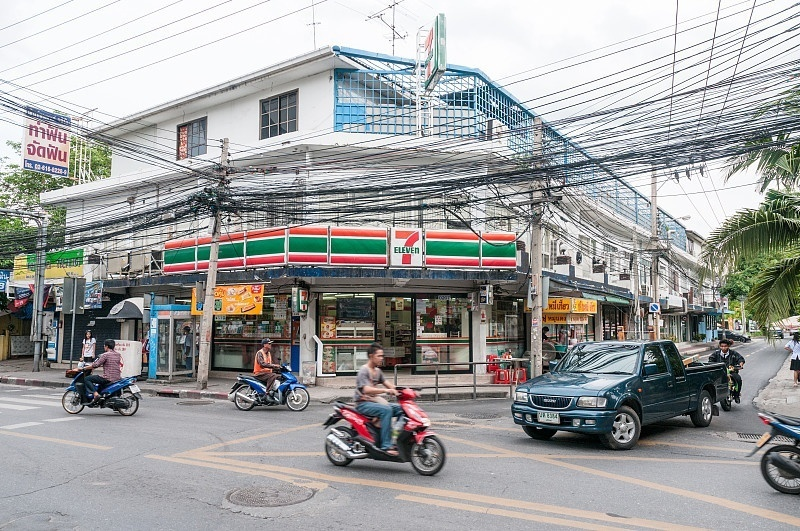non-vehicle: (323, 384, 443, 474), (746, 363, 798, 492), (229, 361, 309, 407), (62, 366, 140, 413)
